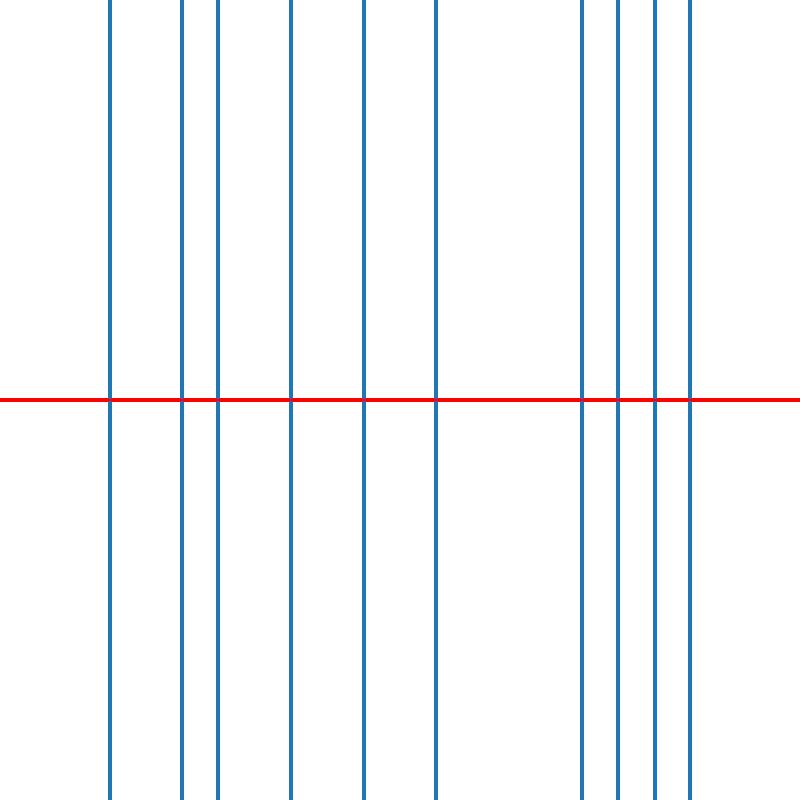root: (432, 396, 440, 404), (650, 396, 658, 404), (614, 396, 621, 404), (178, 396, 185, 404), (287, 396, 294, 404), (578, 396, 585, 404), (105, 396, 112, 404), (360, 396, 367, 404), (214, 396, 221, 404), (687, 396, 694, 404)
